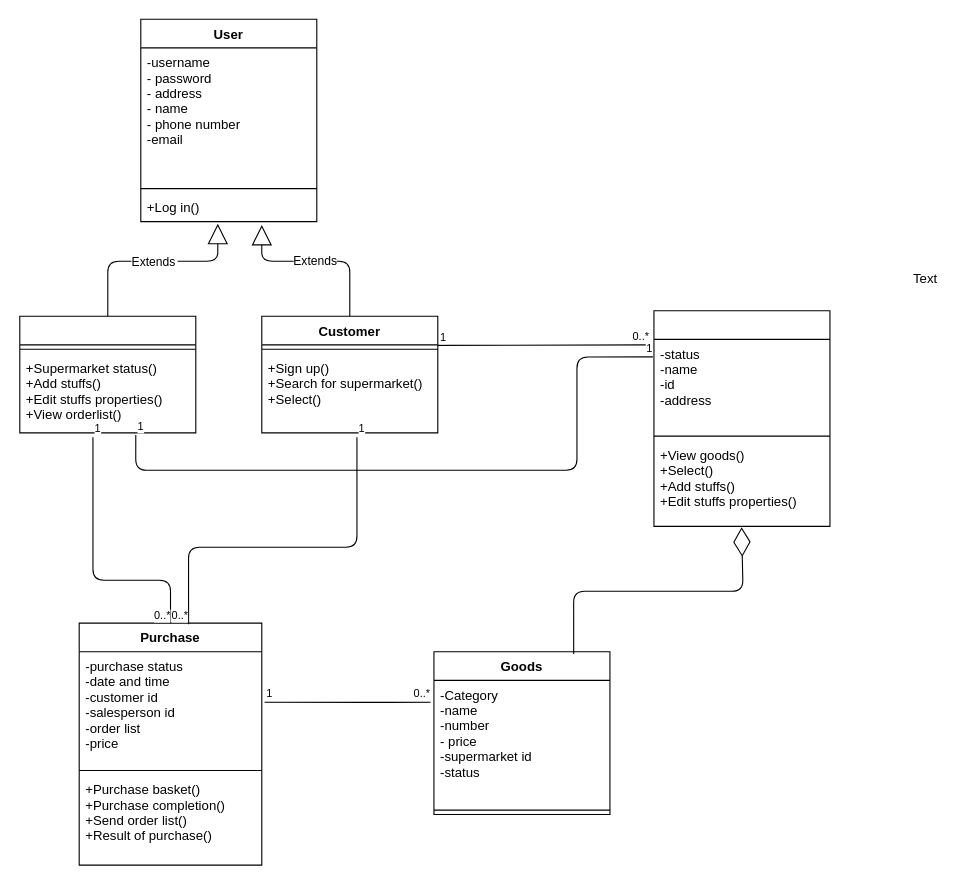
Image size: 974x888. Some labels were removed from this diagram. The box of each missing label's shape, as (x1, y1, x2, y2) in pixels:
Sales person: (19, 315, 196, 433)
Supermarket: (653, 310, 830, 526)
